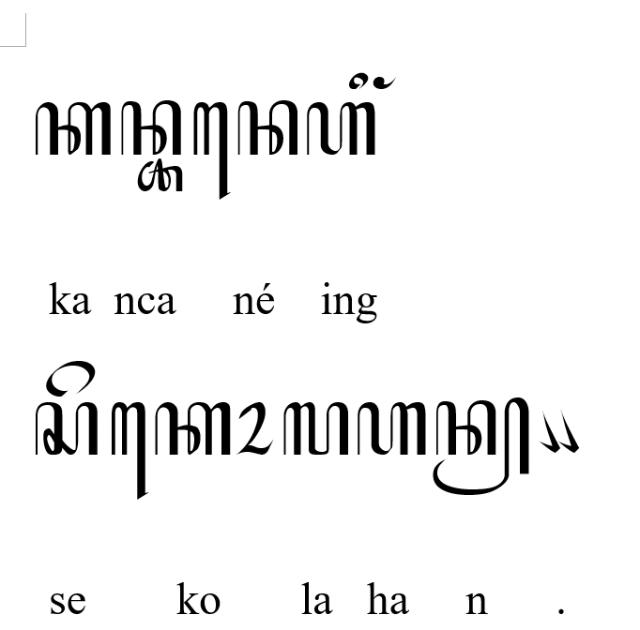-n: (430, 396, 532, 496)
_c: (136, 158, 184, 194)
e: (45, 360, 97, 398)
e1: (191, 101, 231, 201), (110, 400, 148, 502)
h: (306, 100, 376, 158), (357, 402, 428, 456)
i: (348, 71, 368, 89)
k: (34, 101, 112, 157), (154, 400, 232, 456)
kom: (538, 408, 560, 454), (558, 408, 578, 454)
l: (282, 402, 350, 456)
n: (118, 99, 184, 157), (235, 100, 299, 158)
ng: (373, 74, 397, 90)
o: (235, 402, 273, 456)
s: (34, 402, 98, 456)
